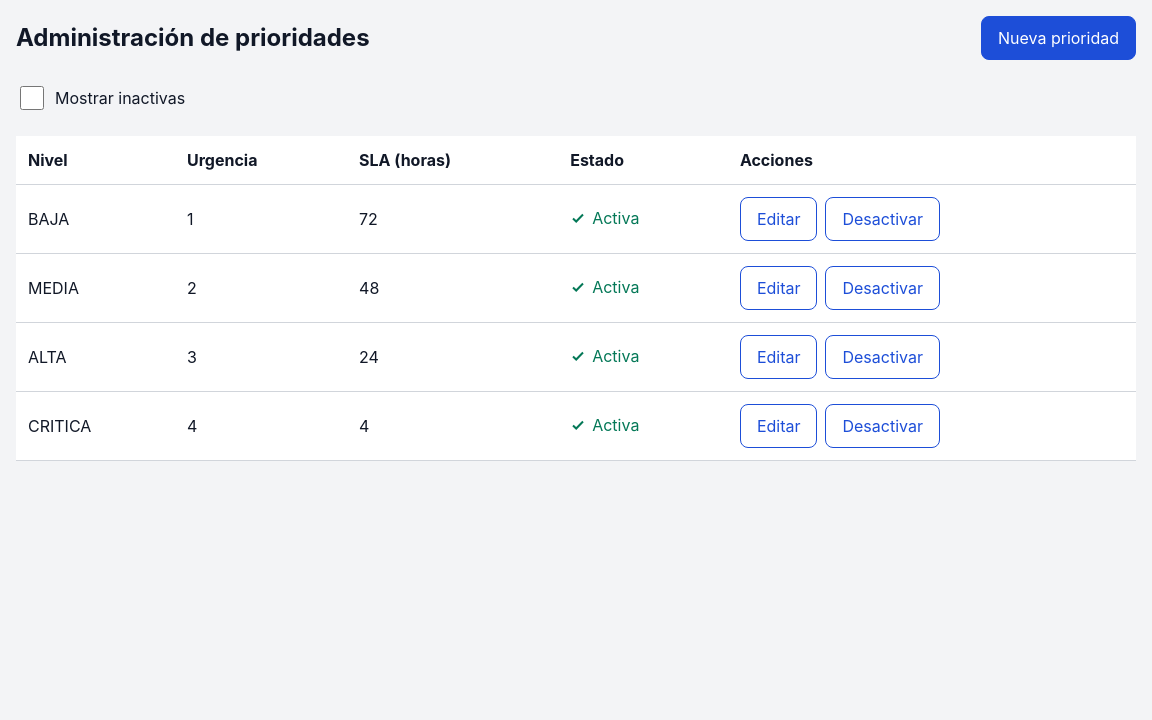
it: PrioridadesPage (US-31) › [US-31 CA-6] editar el SLA avisa que no es retroactivo y actualiza la fila
Step 1. Click the button "Editar" in the row of "ALTA" → point(779, 357), box [740,335,818,379]
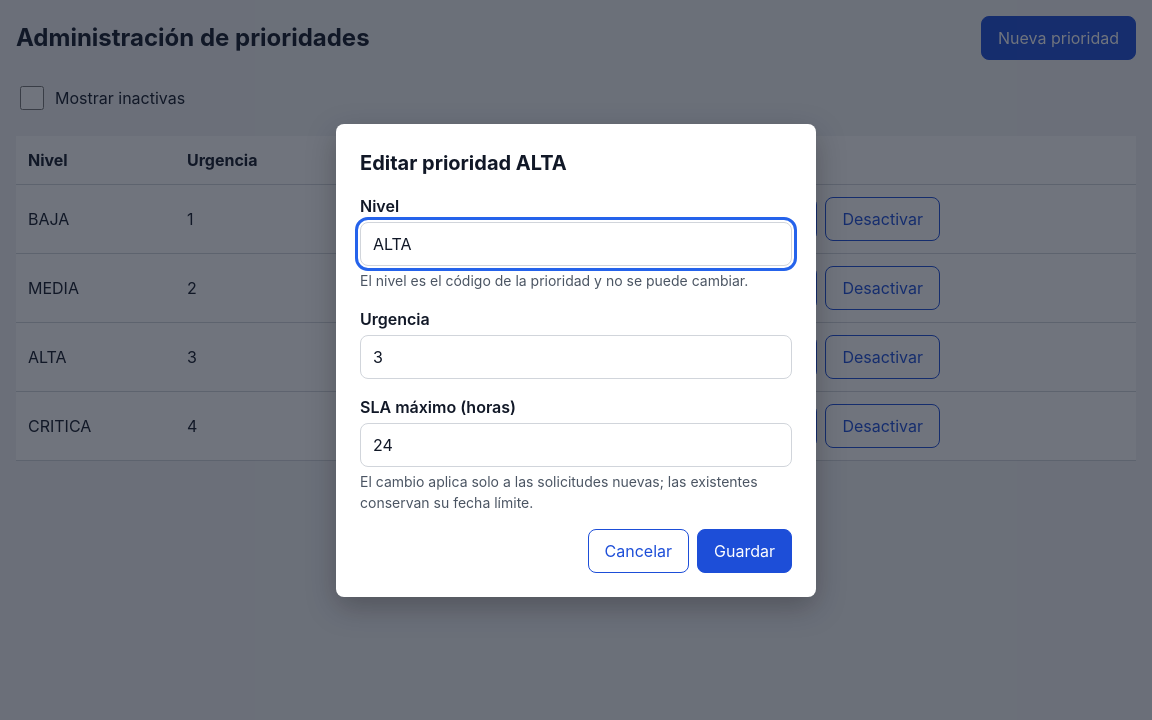
Step 2. Replace the text in the number field labelled "SLA máximo (horas)" with "12" → point(576, 444), box [360,422,792,466]
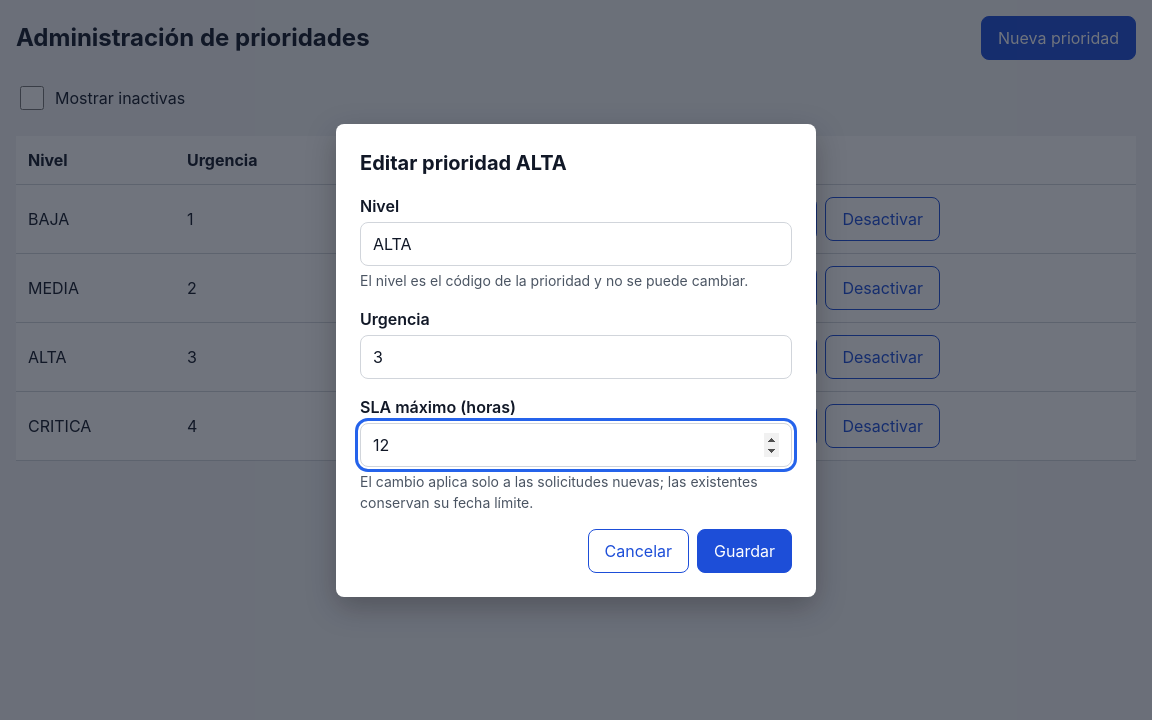
Step 3. Click the button "Guardar" → point(744, 550), box [697,528,792,572]
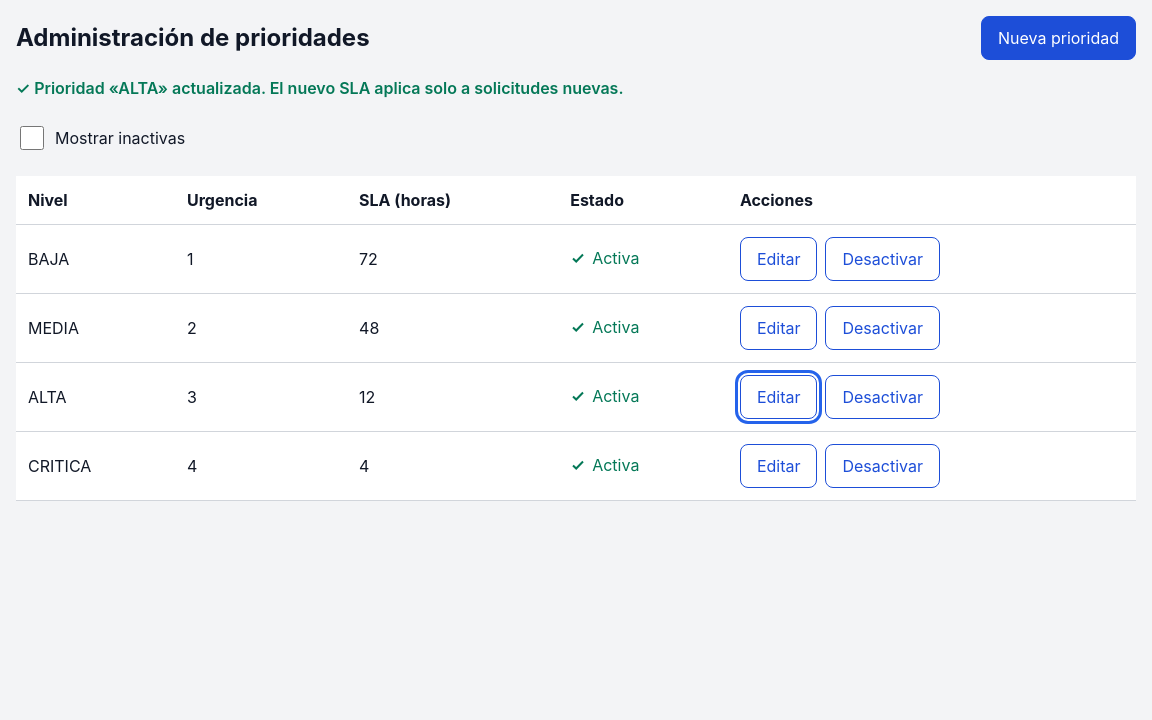
Expected: the message shows "Prioridad «ALTA» actualizada.", [34,78,624,98]
Expected: the cell "12" is shown, [347,362,558,432]
Expected: the dialog is gone
